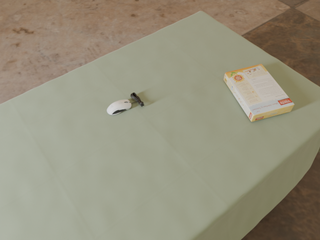box: (224, 64, 294, 122)
mouse: (107, 100, 131, 115)
